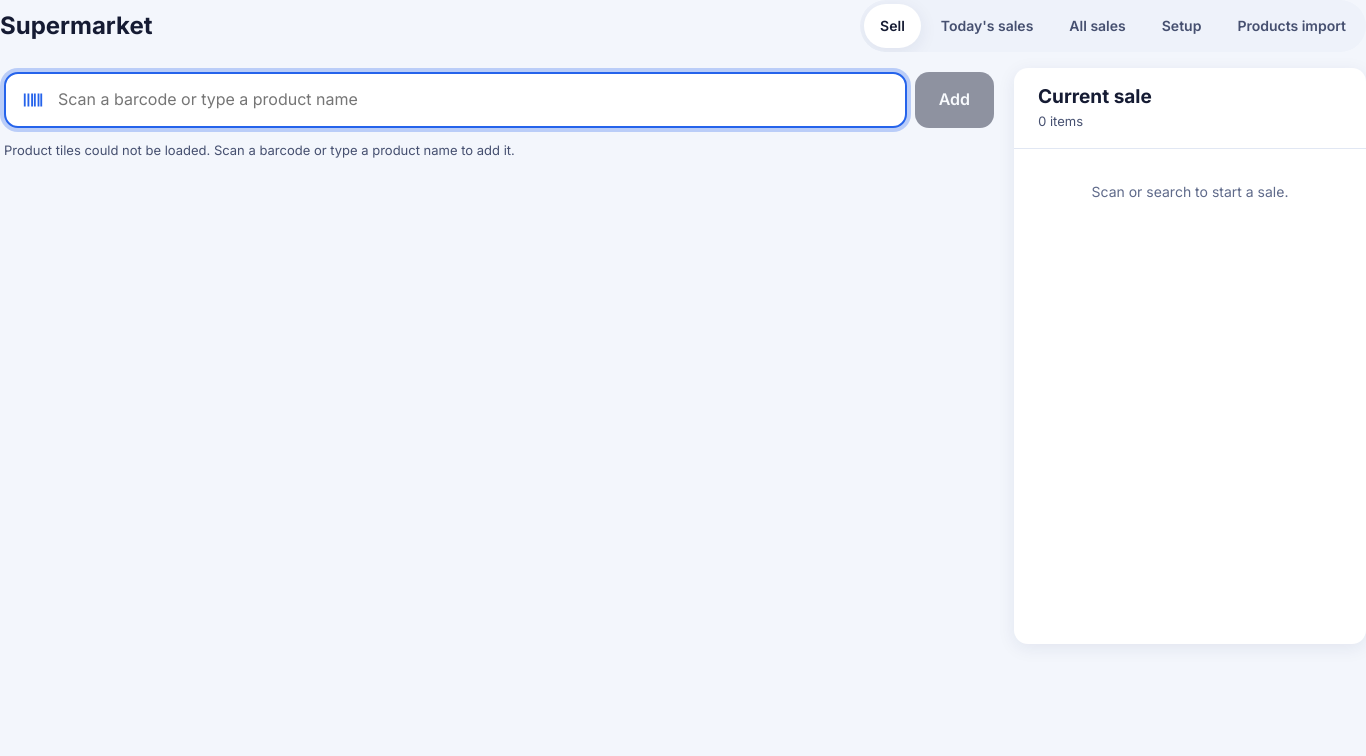
<SupermarketScreen> › sales reports: date range and totals › says the list shows only the latest sales when the total counts more
The image size is (1366, 756).
Click the tab "All sales".
click(1098, 26)  # box [1053,4,1142,48]
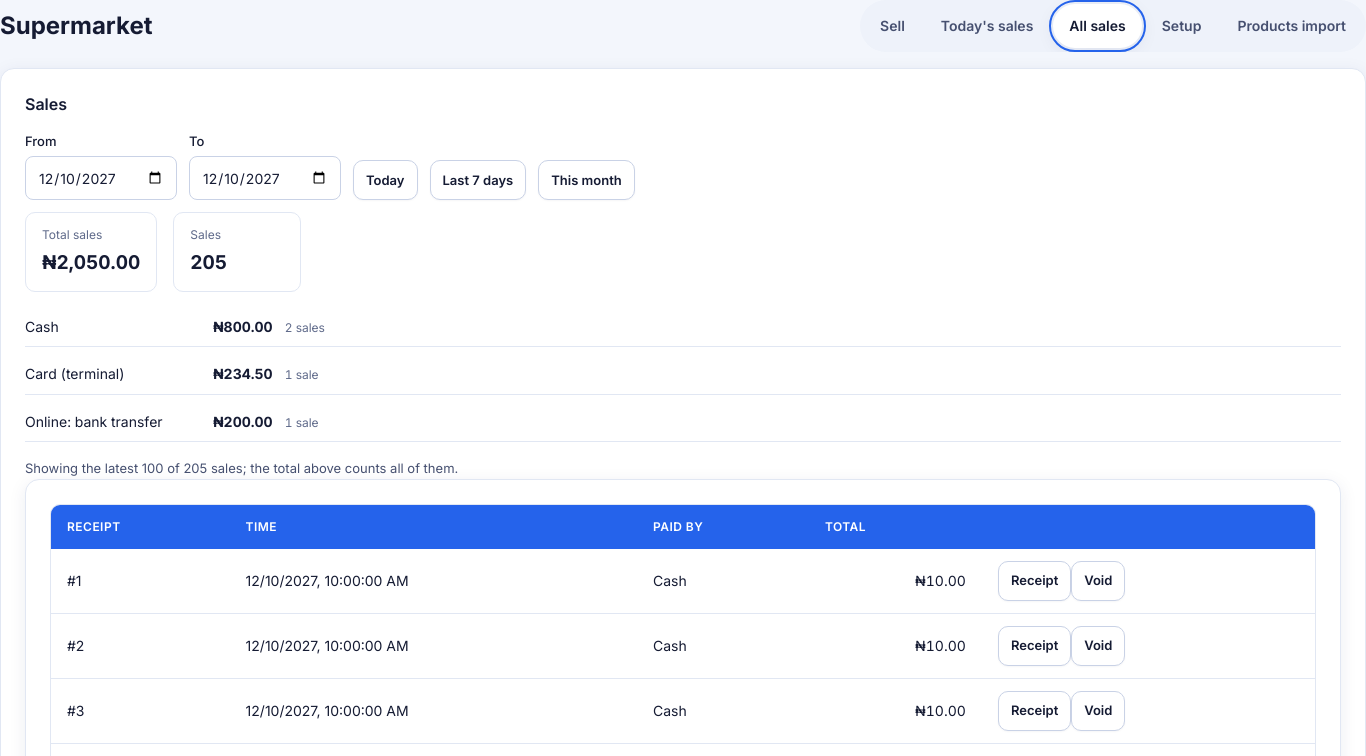
Now the text "Showing the latest 100 of 205 sales; the total above counts all of them" is shown, box [25,460,458,476]
